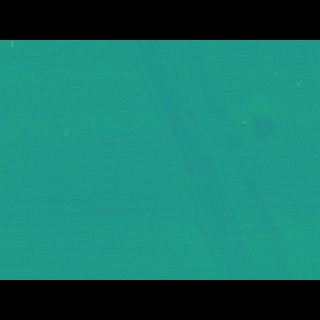Loch: (121, 70, 296, 249), (239, 117, 283, 149)
